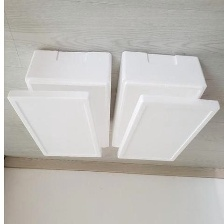foam_box: (110, 47, 222, 165), (5, 46, 113, 163)
